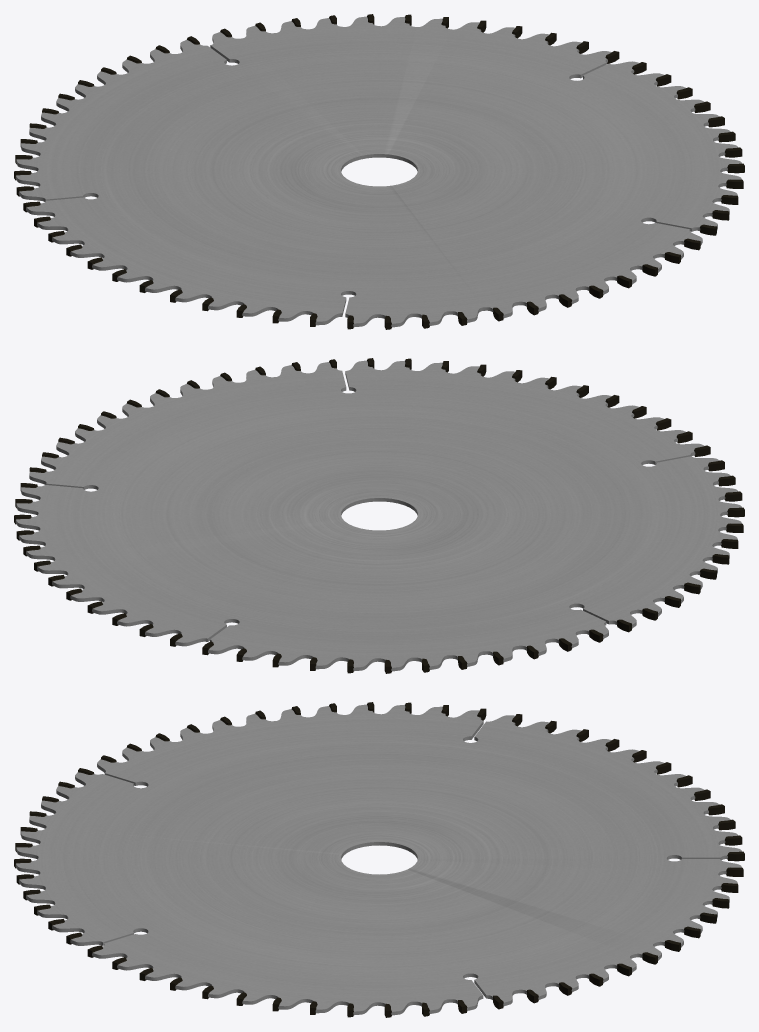
File: saw.obj
The picture shows the model from 3 angles, top to bottom: view 1: azimuth 30°, elevation 25°; view 2: azimuth 150°, elevation 25°; view 3: azimuth 270°, elevation 25°; orthographic projection.
Visible parts, largest first — view 1: Makita_circular_saw_blade.001; view 2: Makita_circular_saw_blade.001; view 3: Makita_circular_saw_blade.001.
Part boxes in pixels (<box>): Makita_circular_saw_blade.001: <box>14,14,744,329</box>; Makita_circular_saw_blade.001: <box>14,358,744,673</box>; Makita_circular_saw_blade.001: <box>14,702,744,1017</box>.
Size of the model in its own units: 0.692 by 0.00729 by 0.692.
2 materials, 1 textured.
